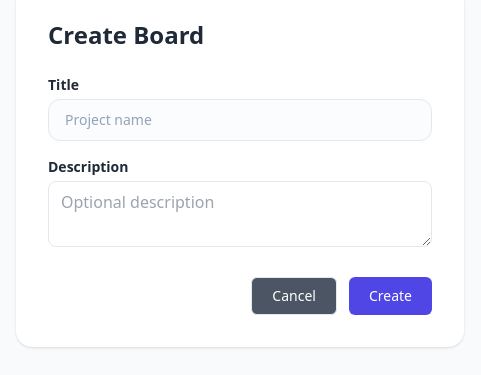
Test: CreateBoard component › shows error when submitting without title
Step 1. Click the button "Create" → (390, 296), box 349,277 -> 432,315
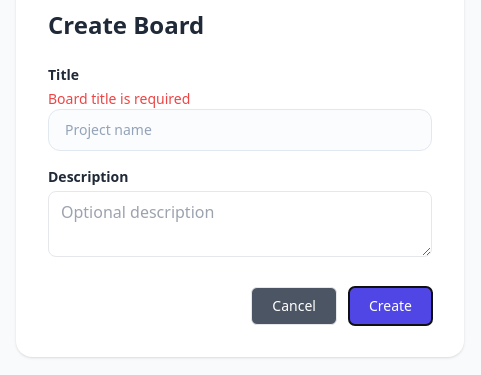
Expected: the text "Board title is required" is shown, 48,89 -> 190,108
